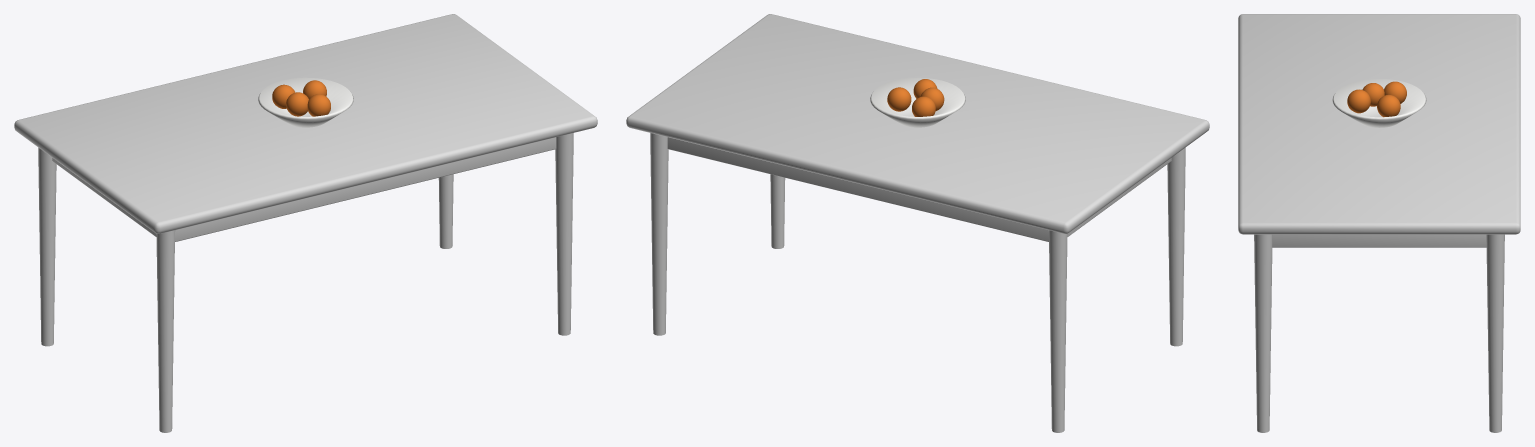
File: mesa_jantar.glb
3 renders of one model, left to right at view 1: azimuth 30°, elevation 25°; view 2: azimuth 150°, elevation 25°; view 3: azimuth 270°, elevation 25°, orthographic.
Parts seen in each view (by area): view 1: p; view 2: p; view 3: p.
Part boxes in pixels (bbox=[...]): p: bbox=[14, 14, 597, 432]; p: bbox=[626, 14, 1209, 432]; p: bbox=[1238, 14, 1520, 432].
Bounding box in the file's own units: 1.6 × 0.863 × 0.9.
